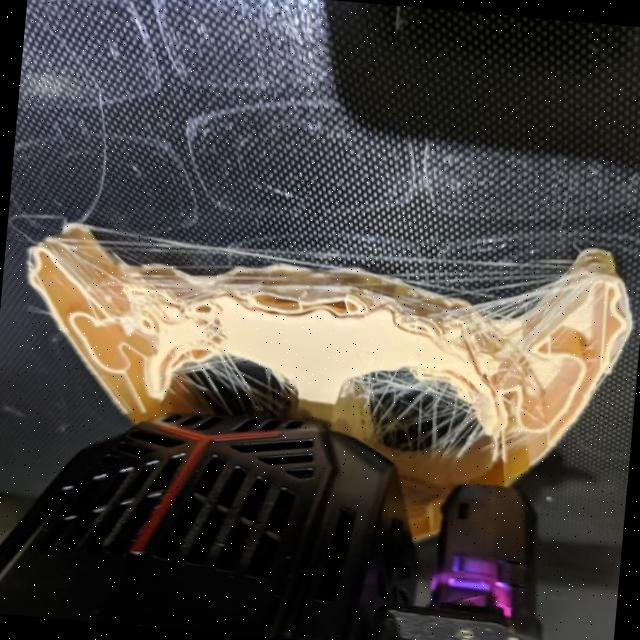stringing: (350, 366, 472, 443), (182, 354, 288, 418), (446, 284, 533, 330)
